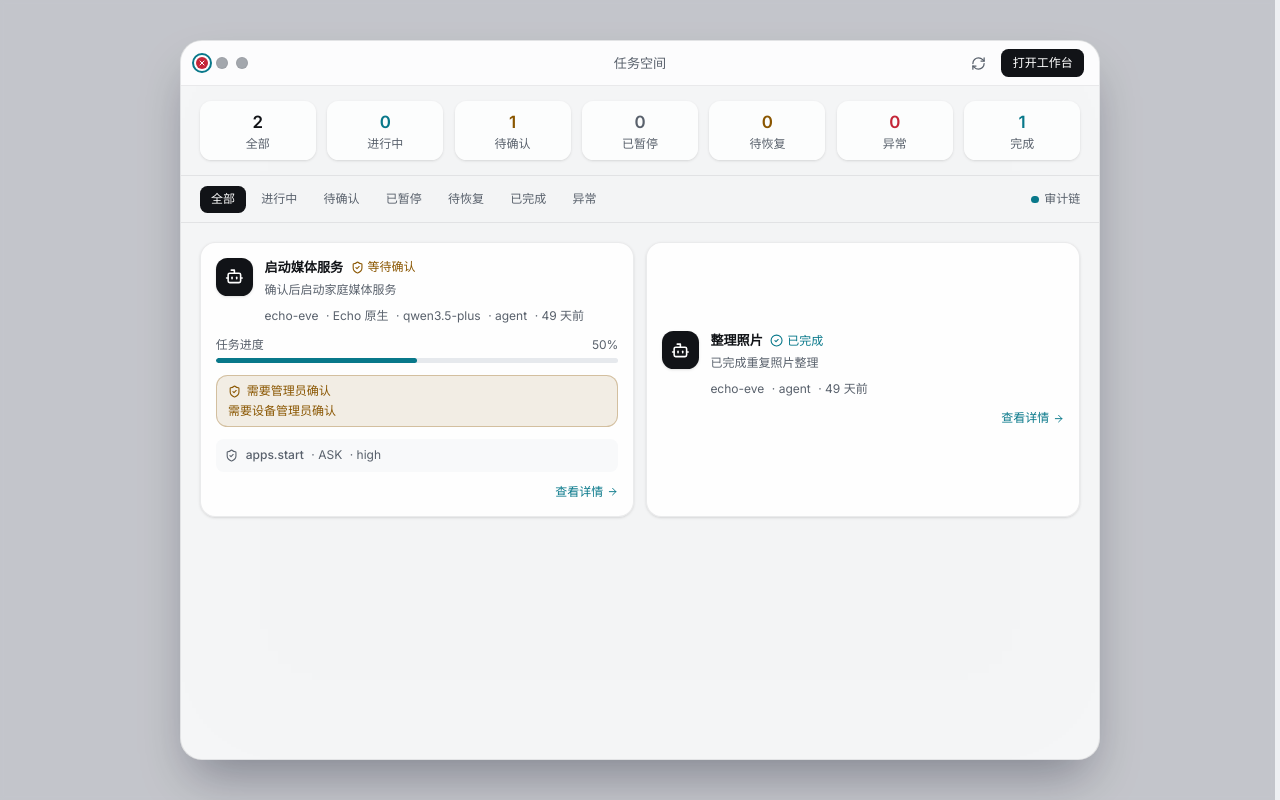
Test: Echo task space › shows real task state, approval context, capability policy, and filters
Expected: the heading "启动媒体服务" is shown, [264,258,343,277]
Expected: the heading "整理照片" is shown, [710,331,763,350]
Step 1. Click the button with aria-label "查看任务：启动媒体服务" → [417, 379], box [200,242,634,517]
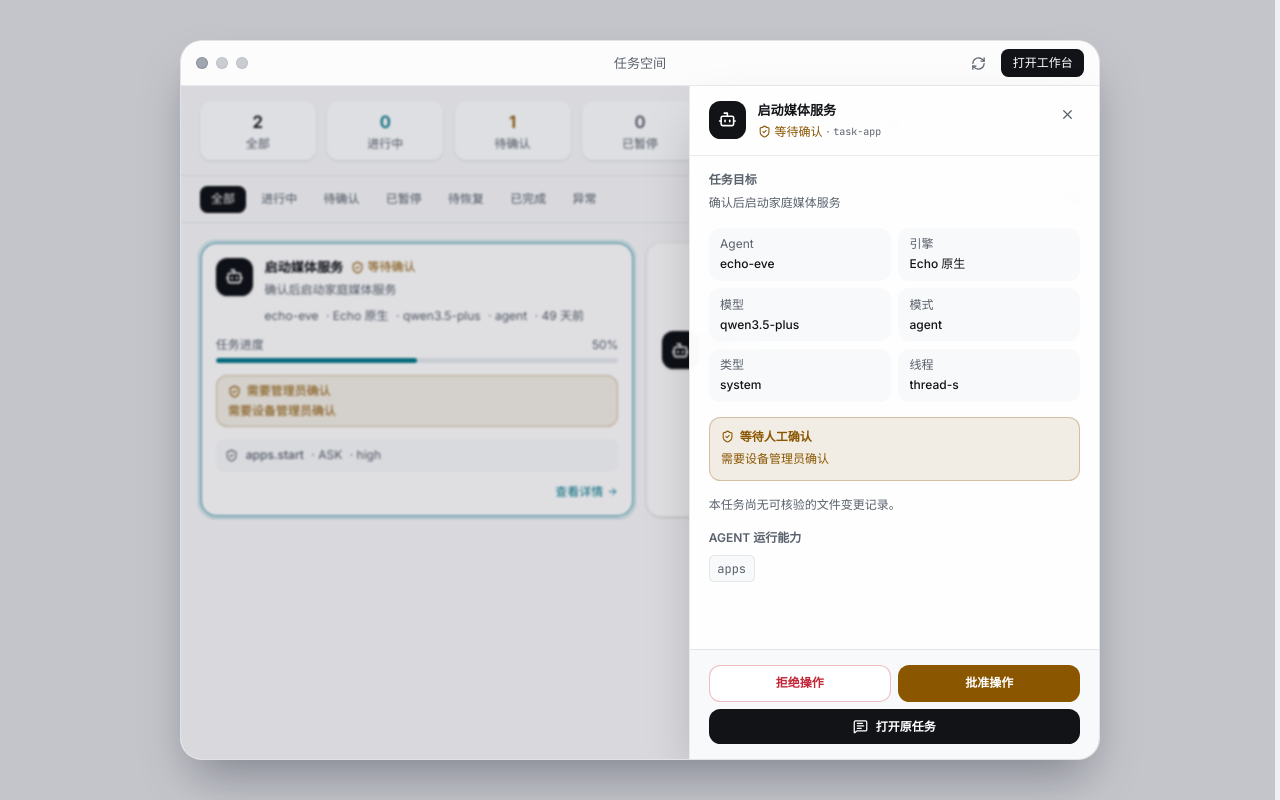
Expected: the text "Echo 原生" is shown, [910,256,965,271]
Expected: the text "qwen3.5-plus" is shown, [720,317,799,332]
Step 2. Click the button named "收起任务详情" → [1067, 114], box [1054,101,1080,127]
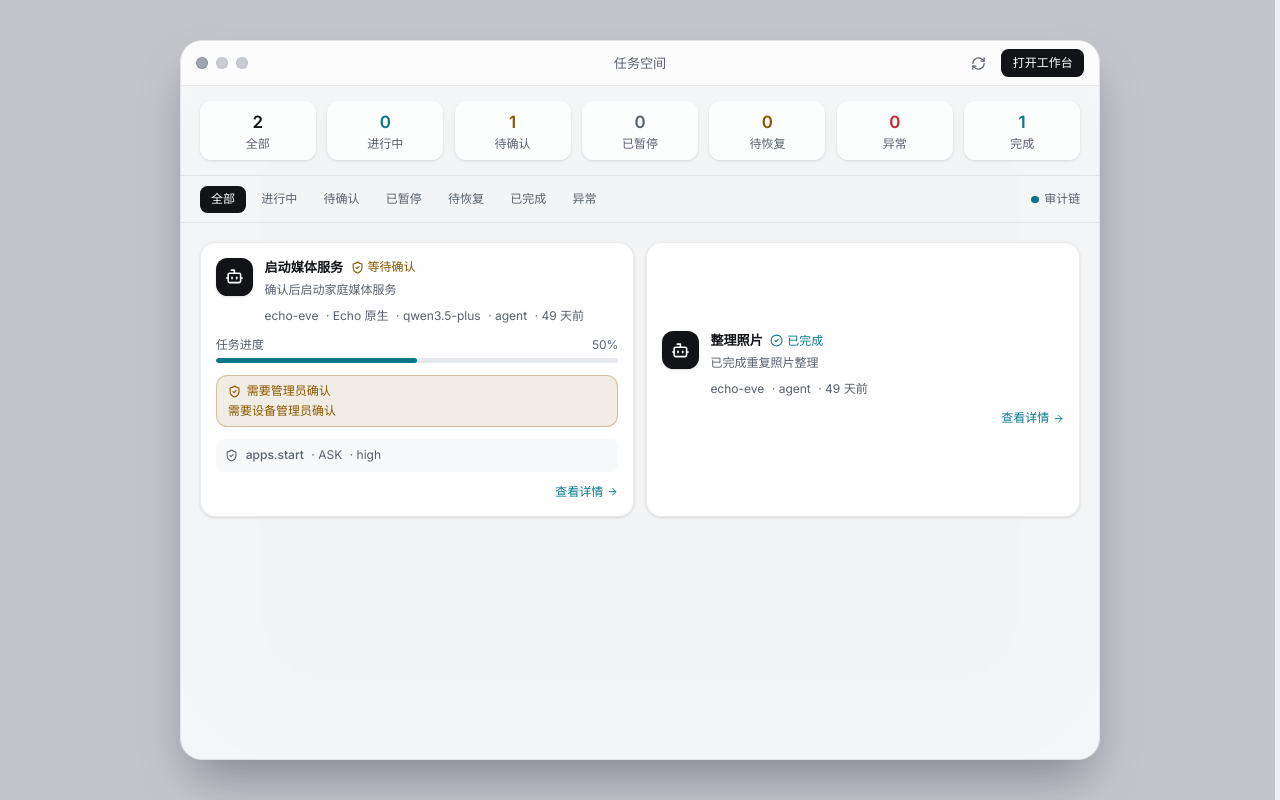
Step 3. Click the button "待确认" → [342, 199], box [312,186,371,213]
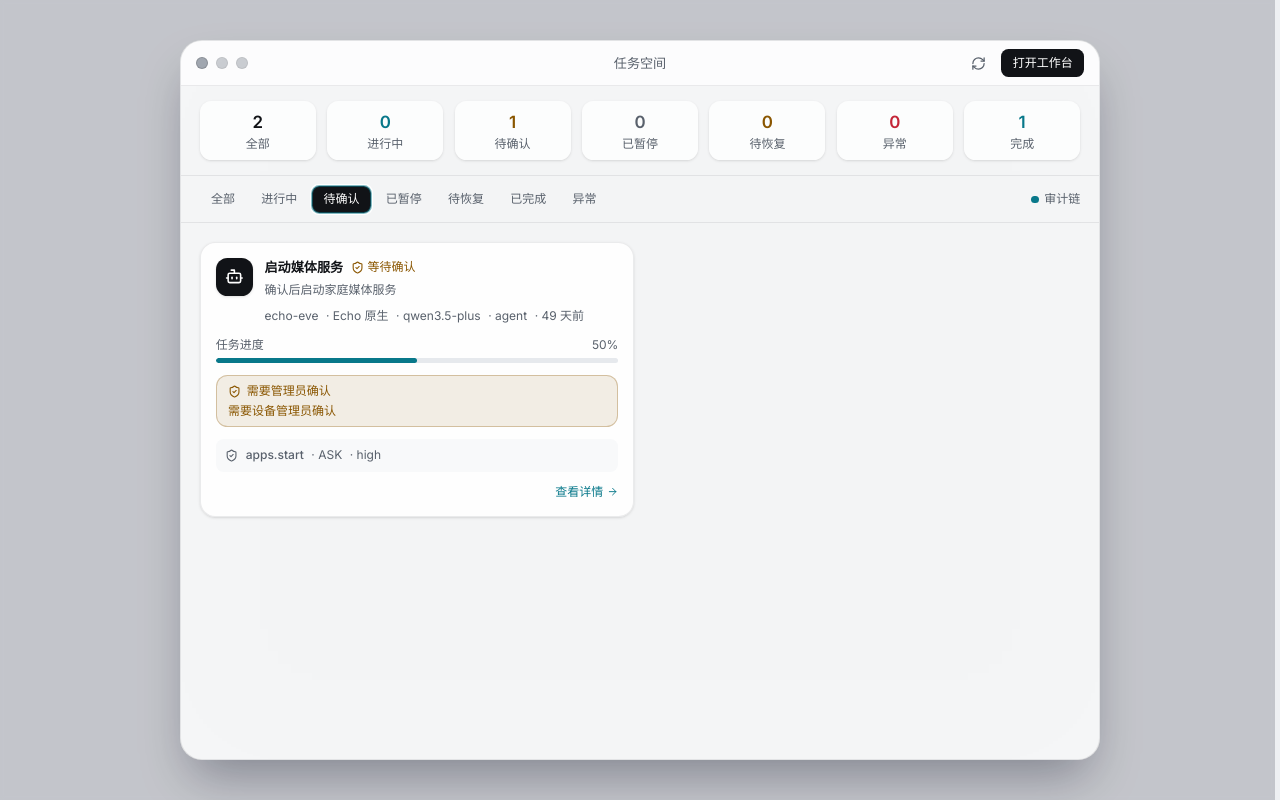
Expected: the heading "启动媒体服务" is shown, [264,258,343,277]
Expected: the button "整理照片" is gone
